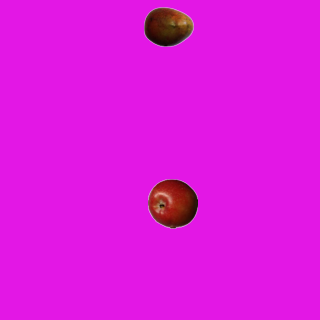Apple Braeburn: (147, 178, 197, 228)
Mango Red: (143, 1, 193, 51)
